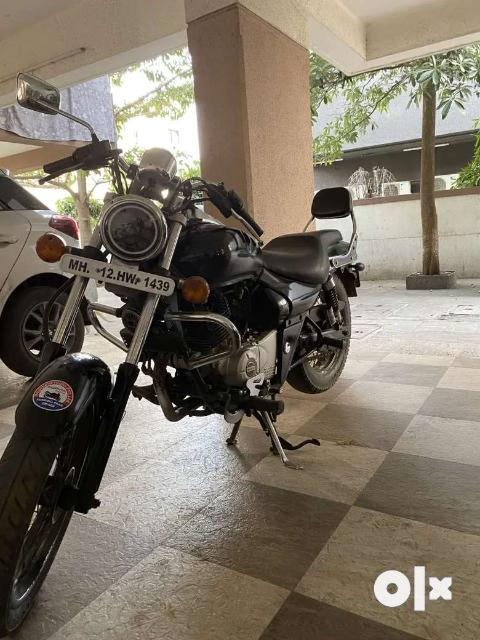Indian_Number_Plate: (60, 254, 175, 296)
